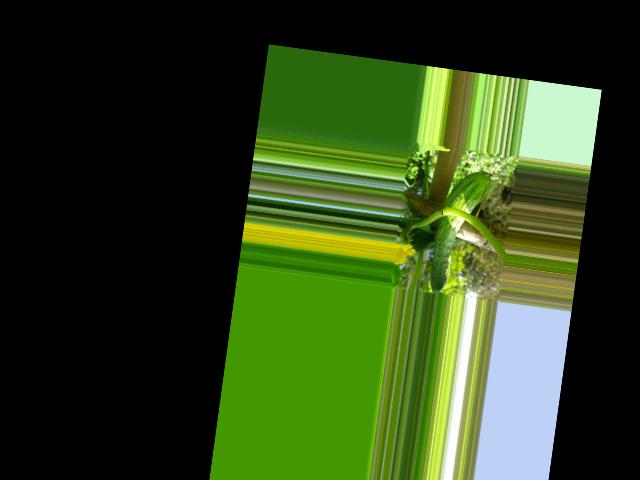cucumber: (427, 166, 491, 299)
